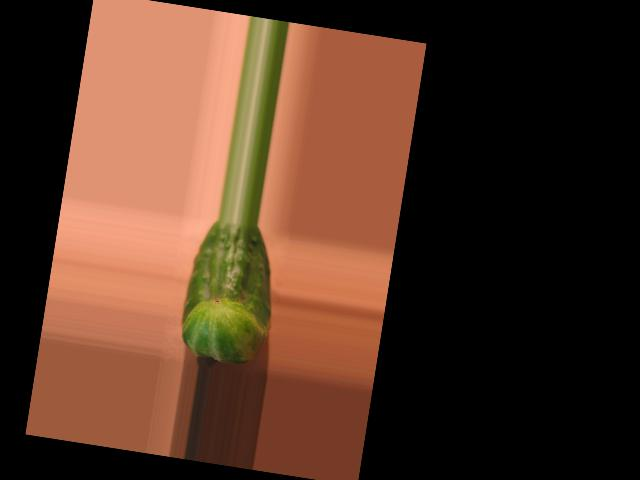cucumber: (175, 216, 284, 367)
